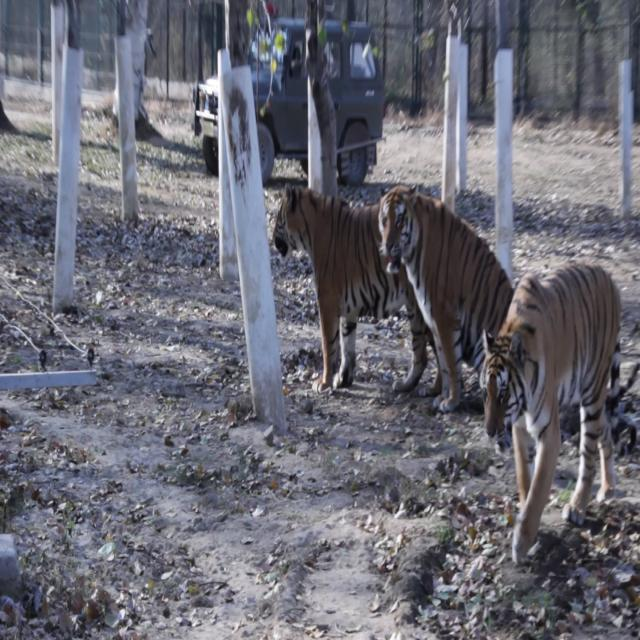Tiger: (472, 240, 632, 546), (267, 171, 409, 397), (379, 178, 500, 407)
